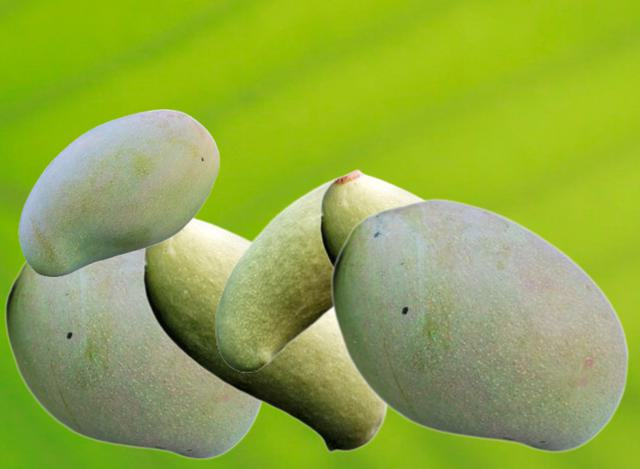green_mango: (330, 197, 628, 452), (142, 216, 387, 452), (4, 250, 262, 459), (18, 109, 219, 275), (214, 174, 341, 371), (319, 168, 426, 267)
